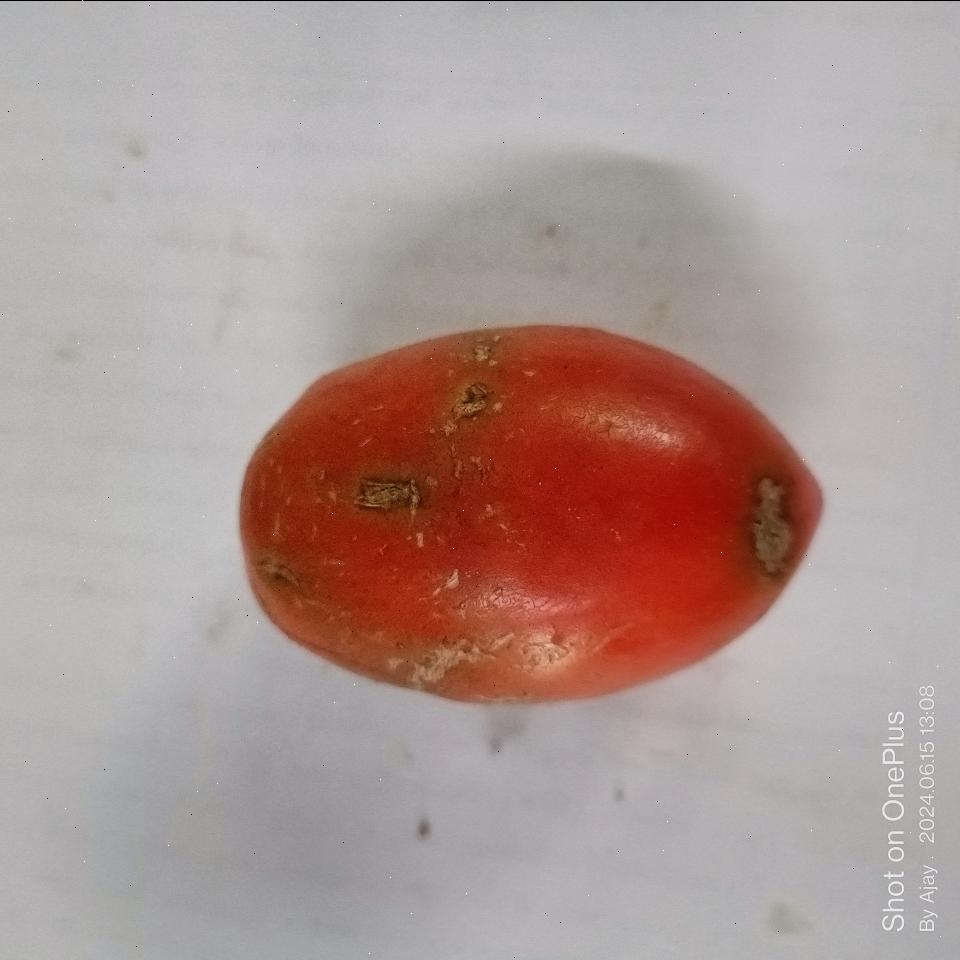Bacterial_Spot: (741, 458, 792, 580), (353, 471, 430, 516), (441, 386, 489, 436)
